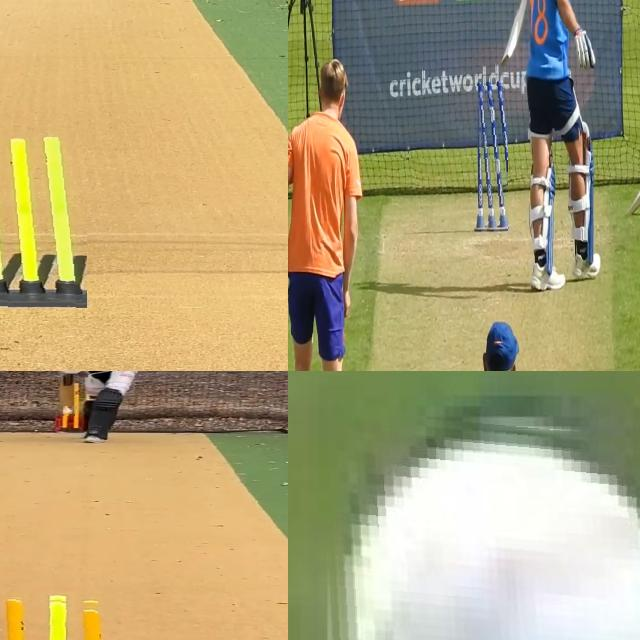Cricket ball: (319, 409, 640, 640), (61, 407, 75, 416)
Stumps: (0, 133, 87, 307), (0, 593, 116, 640), (474, 79, 508, 233)
